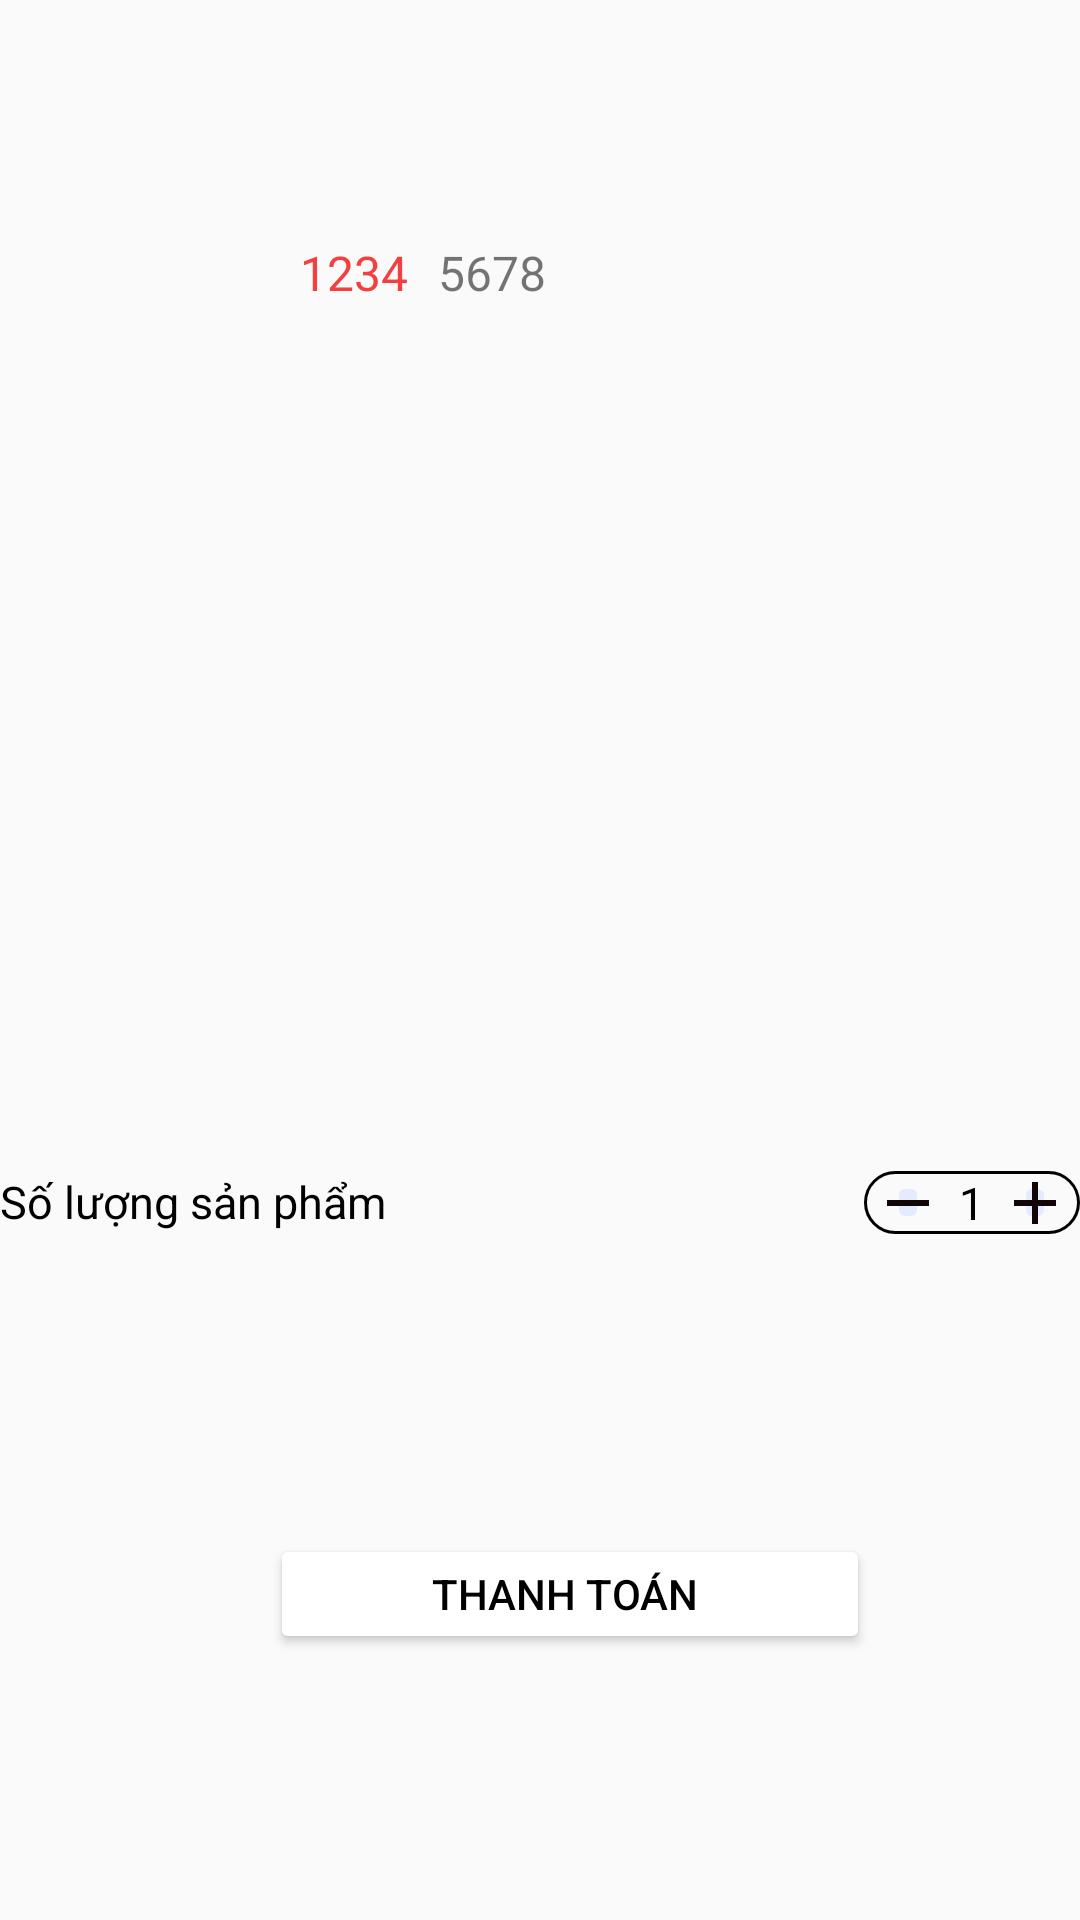

Where to tap for icons on this 1080×1920 app screen, as [x,y]:
add: [1035,1203]
remove: [908,1202]
